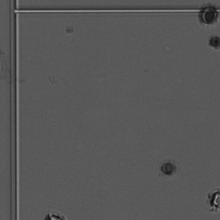Dead Cell: (156, 157, 182, 183), (195, 2, 220, 27), (209, 34, 219, 48)
